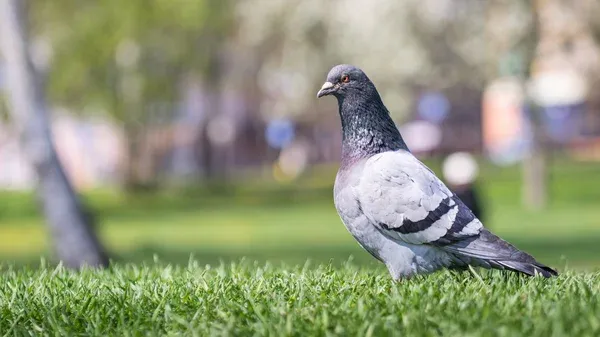Flying Rat: (319, 62, 518, 281)
